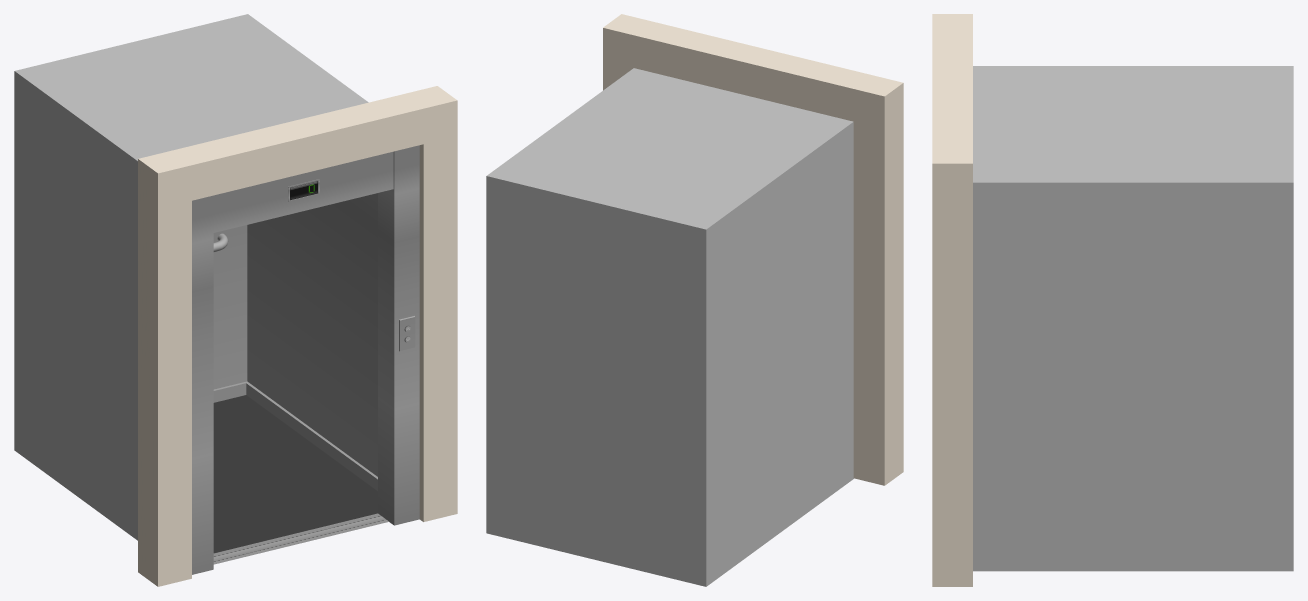
Rendered from elevator.glb.
3 renders of one model, left to right at view 1: azimuth 30°, elevation 25°; view 2: azimuth 150°, elevation 25°; view 3: azimuth 270°, elevation 25°, orthographic. The views are drawn at different scales.
Visible parts, largest first — view 1: Object_8, Object_13, Object_2, Object_4, Object_9, Object_6, Object_12; view 2: Object_8, Object_2; view 3: Object_8, Object_2.
Boxes of the visible parts, x1,y1,x2,y2 form: Object_8: [14, 14, 368, 540]; Object_13: [192, 145, 419, 574]; Object_2: [138, 86, 457, 586]; Object_4: [213, 395, 377, 553]; Object_9: [213, 381, 377, 490]; Object_6: [213, 513, 388, 564]; Object_12: [288, 179, 415, 351]; Object_8: [486, 68, 853, 586]; Object_2: [603, 14, 903, 485]; Object_8: [973, 66, 1293, 571]; Object_2: [932, 14, 972, 586].
Size of the model in its own units: 186 by 245 by 190.
11 materials, 4 textured.
